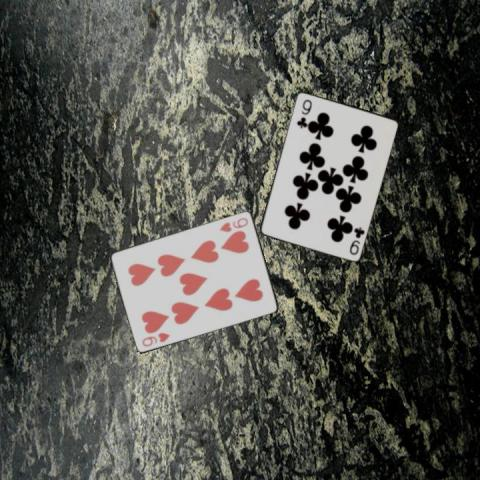9c: (293, 96, 313, 129), (346, 223, 366, 256)
9h: (217, 214, 249, 233), (140, 329, 172, 348)
